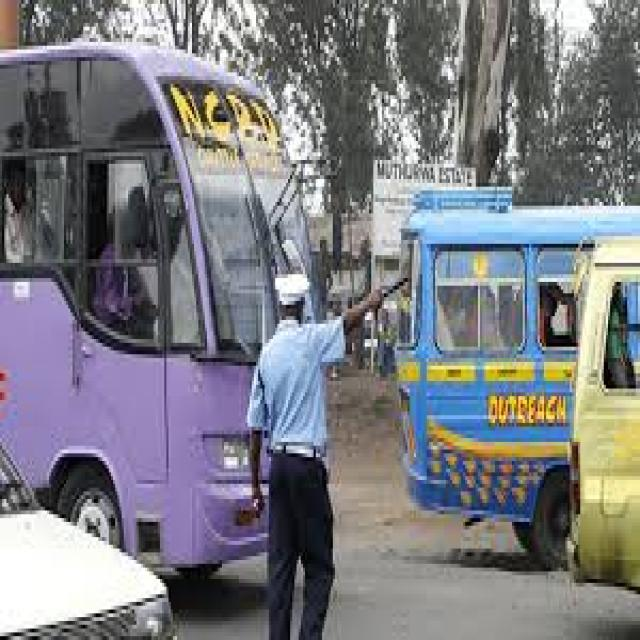bus: (0, 21, 282, 564), (395, 158, 558, 585)
matatu: (568, 235, 640, 590)
